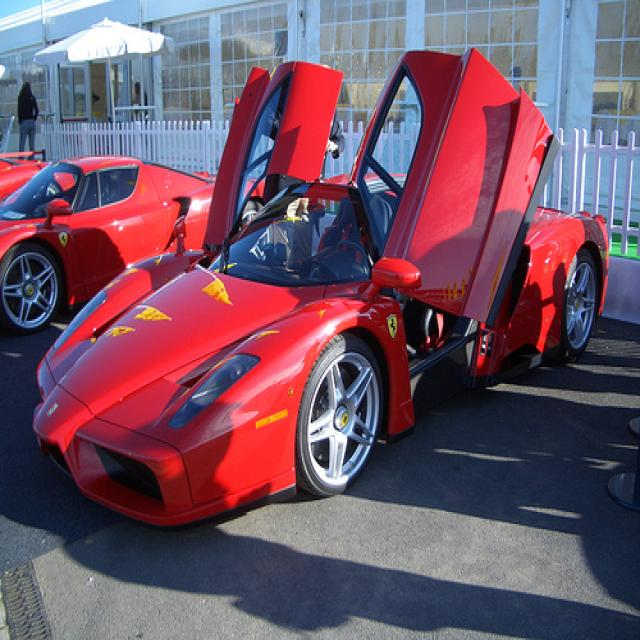light_vehicle: (31, 46, 609, 529), (2, 154, 268, 338), (0, 150, 76, 205)
